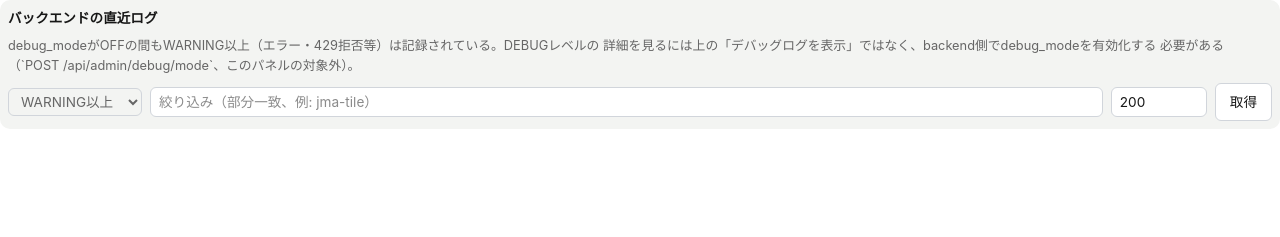
Test: BackendLogsPanel › 取得に失敗したら理由を出し、取り直して成功すれば理由は消える
This screenshot has width=1280, height=237.
What coordinates should you click on to do the following:
click the button "取得"
I would click on:
 (1243, 102)
Its box is [1215,83,1272,121].
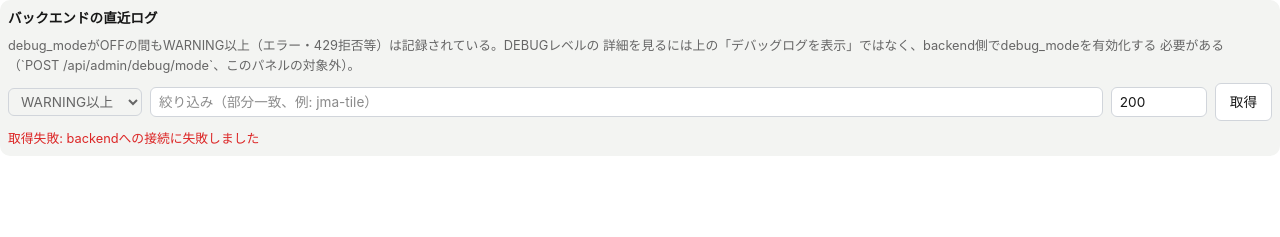
expect the text "取得失敗: backendへの接続に失敗しました" is shown: met, box [8,131,259,146]
What coordinates should you click on to do the following:
click the button "取得"
I would click on:
 (1243, 102)
Its box is [1215,83,1272,121].
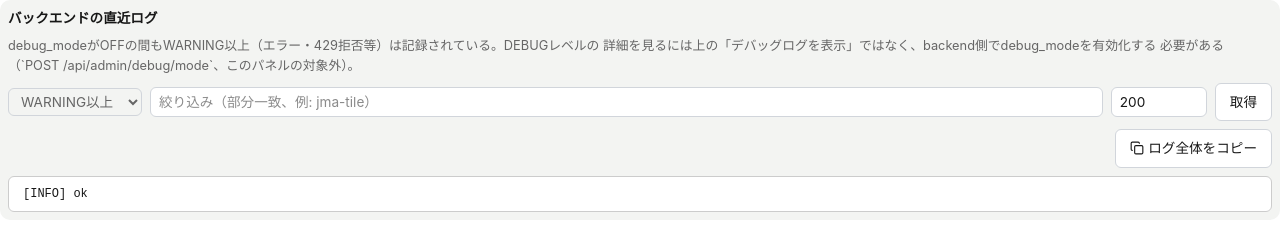
expect the text "[INFO] ok" is shown: met, box [23,186,88,200]
expect the text "取得失敗" is gone: met
